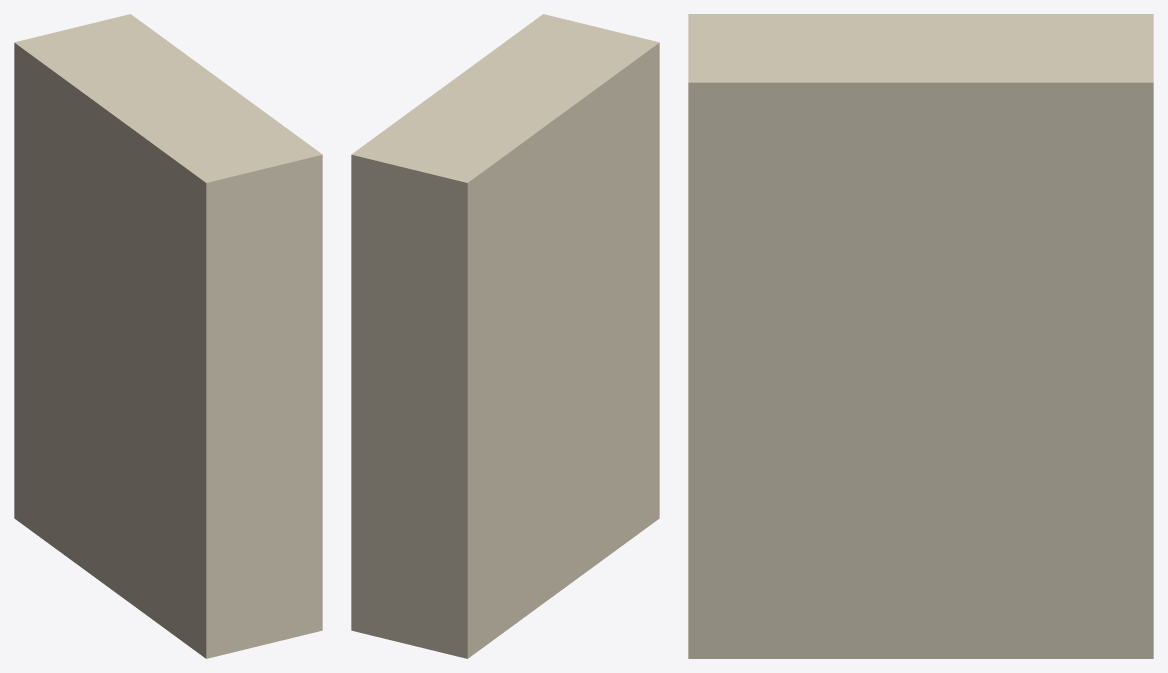
3 views of the same model, side by side, from view 1: azimuth 30°, elevation 25°; view 2: azimuth 150°, elevation 25°; view 3: azimuth 270°, elevation 25° (orthographic). The views are drawn at different scales.
Visible parts, largest first — view 1: B-GF-WINDOW-008-SILL; view 2: B-GF-WINDOW-008-SILL; view 3: B-GF-WINDOW-008-SILL.
Part boxes in pixels (x1,y1,x2,y2): B-GF-WINDOW-008-SILL: [14, 14, 322, 658]; B-GF-WINDOW-008-SILL: [351, 14, 659, 658]; B-GF-WINDOW-008-SILL: [688, 14, 1153, 658].
Bounding box in the file's own units: 0.21 × 0.82 × 0.6.
